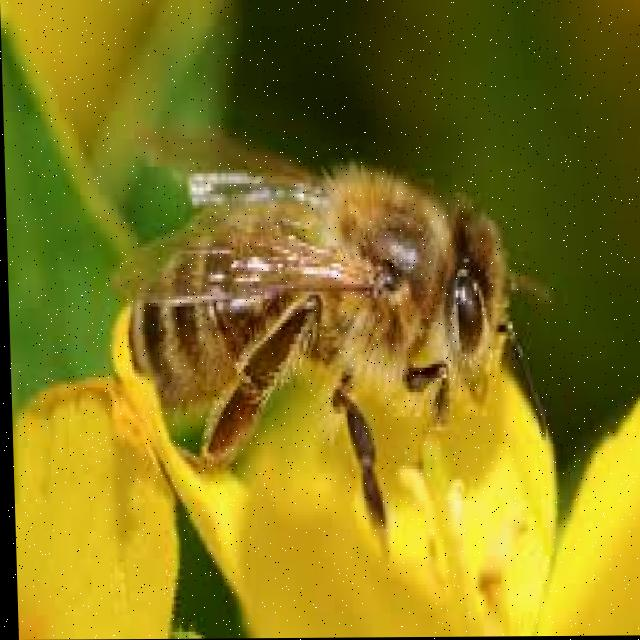Apis-mellifera-scutellata: (104, 116, 569, 510)
